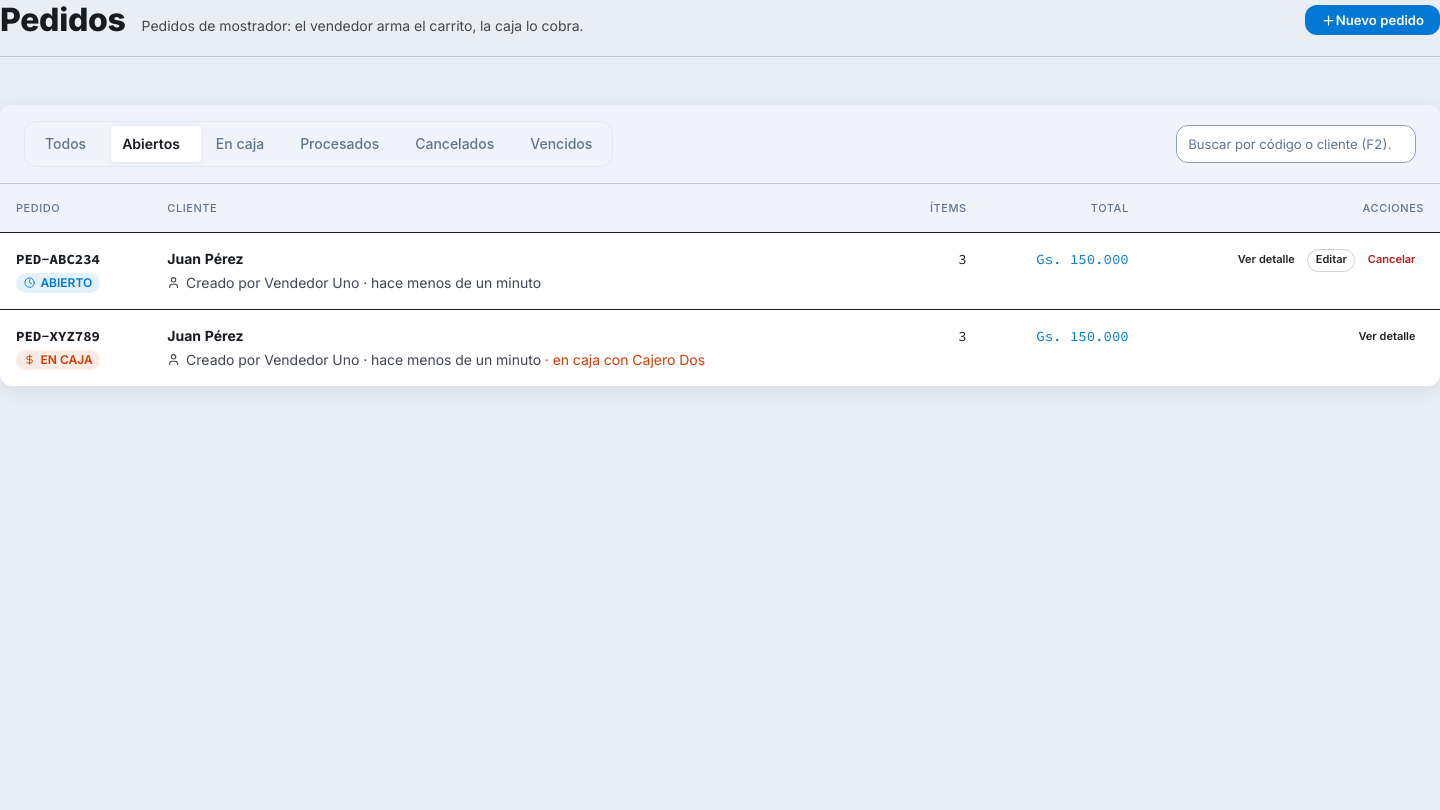
Scenario: OrderBuilder — dropmenu de unidades vendibles + carrito en tabla › cada fila del dropmenu muestra el stock y precio de SU unidad (sin N+1 de variantes)
The width and height of the screenshot is (1440, 810).
Click the button with test id "counterorders-new-button" at point(1372, 20), box top-left (1305, 5), bottom-right (1439, 35)
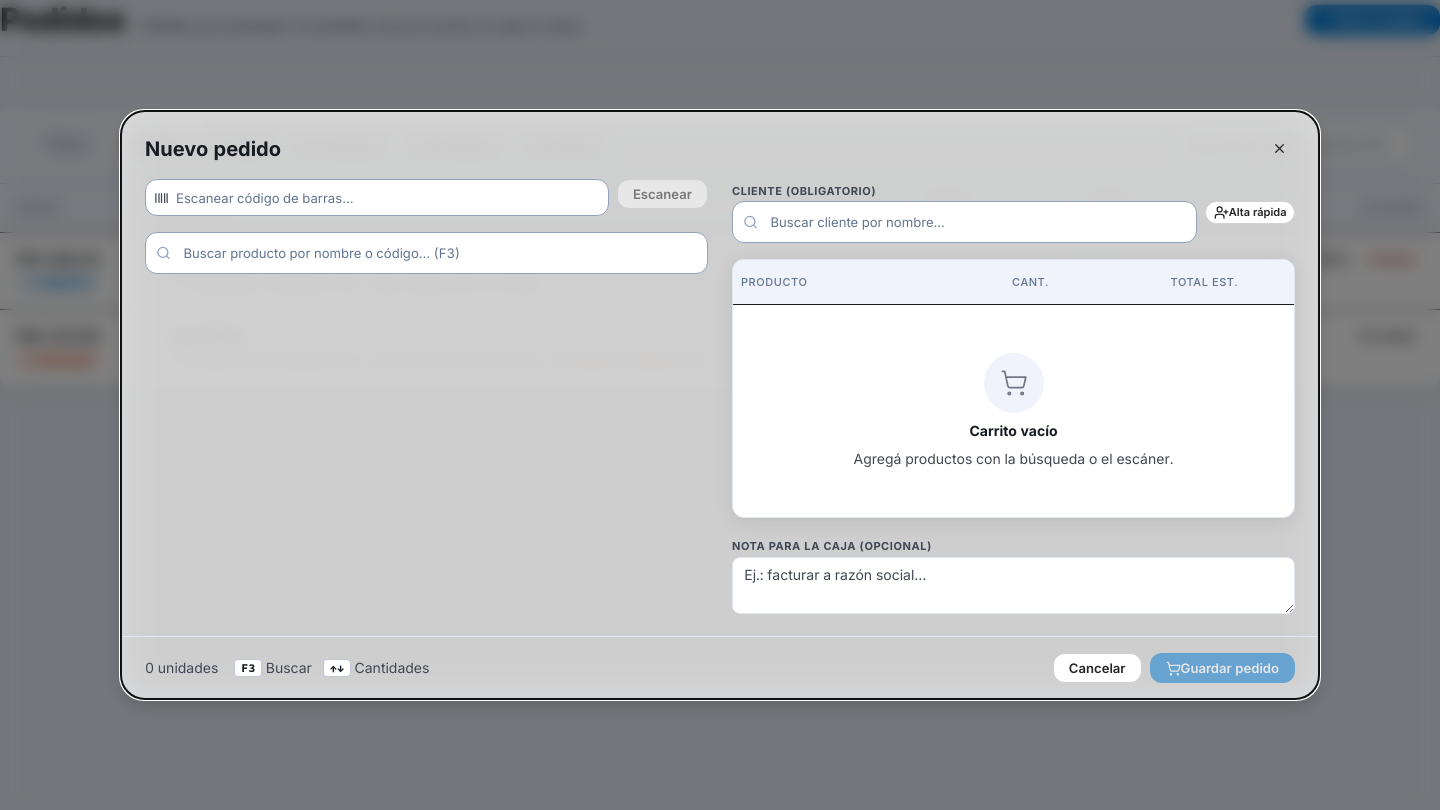
Type "cam" into the field with placeholder "Buscar producto por nombre o código… (F3)" at point(426, 253), box top-left (145, 232), bottom-right (708, 274)
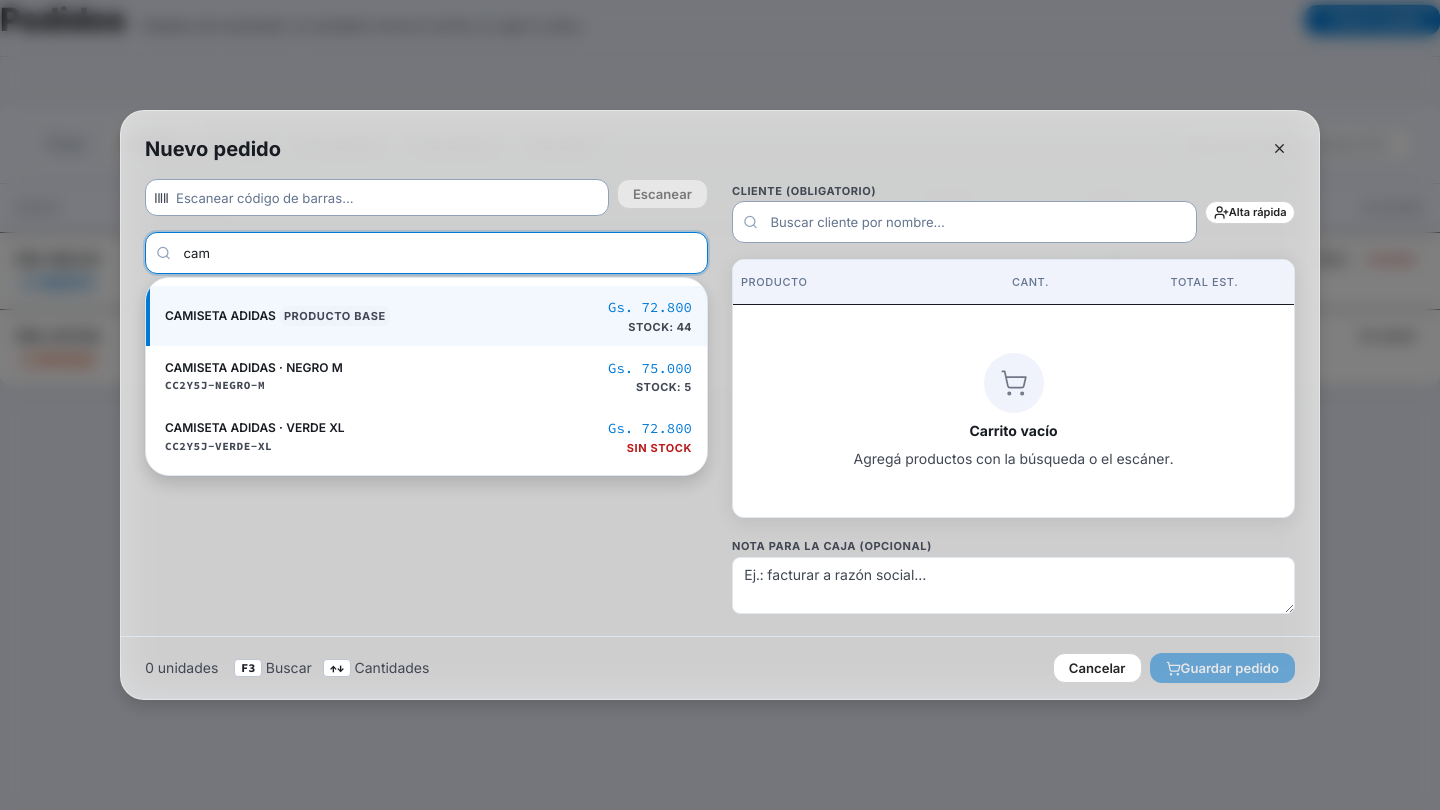
Now the element with test id "counterorder-pick-VAR-NEGRO" shows "CAMISETA ADIDAS · NEGRO M", box top-left (165, 360), bottom-right (343, 374)
Now the element with test id "counterorder-pick-VAR-NEGRO" shows "CC2Y5J-NEGRO-M", box top-left (165, 378), bottom-right (265, 392)
Now the element with test id "counterorder-pick-VAR-NEGRO" shows "Stock: 5", box top-left (636, 380), bottom-right (692, 394)
